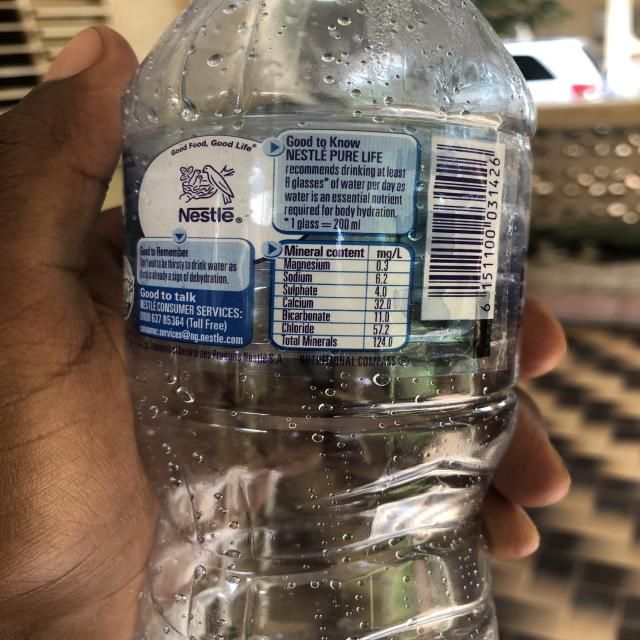plastic_bottle: (118, 0, 538, 639)
